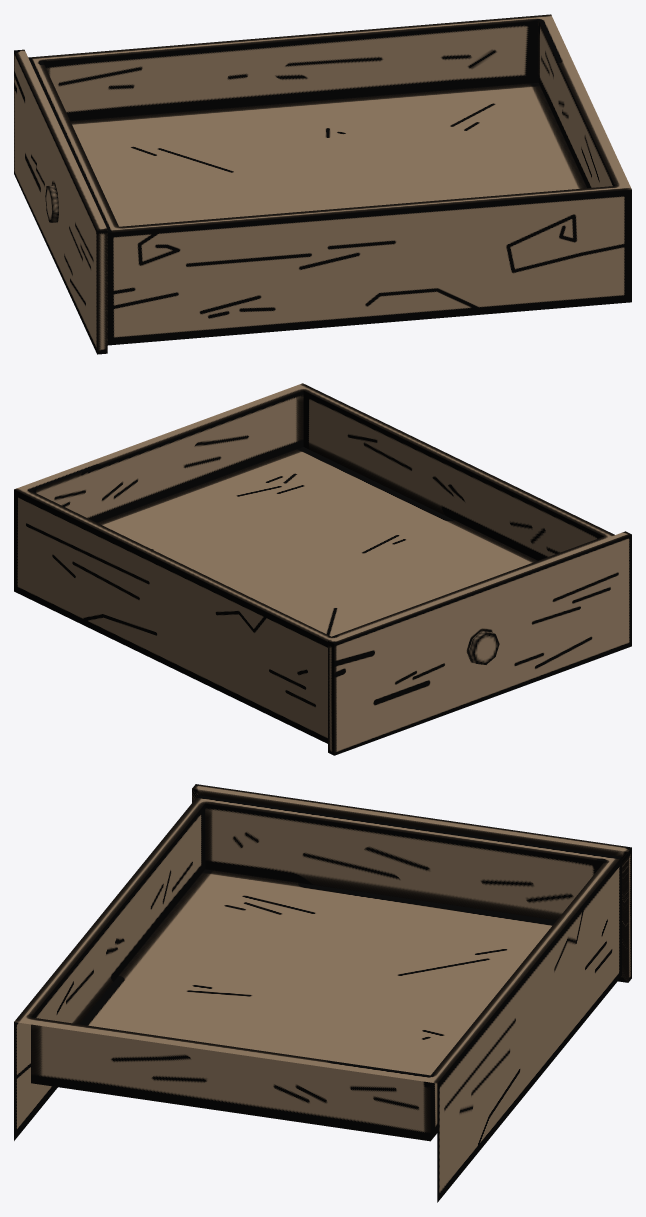
The model's file is tiroir_table_chevet (1).fbx.
The picture shows the model from 3 angles, top to bottom: view 1: azimuth 30°, elevation 25°; view 2: azimuth 150°, elevation 25°; view 3: azimuth 270°, elevation 25°; orthographic projection. The views are drawn at different scales.
Parts seen in each view (by area): view 1: tiroir_table_chevet; view 2: tiroir_table_chevet; view 3: tiroir_table_chevet.
Boxes of the visible parts, x1,y1,x2,y2 form: tiroir_table_chevet: (14,14,631,354); tiroir_table_chevet: (14,383,631,755); tiroir_table_chevet: (14,784,631,1202).
Size of the model in its own units: 85.73 by 17.82 by 76.22.
